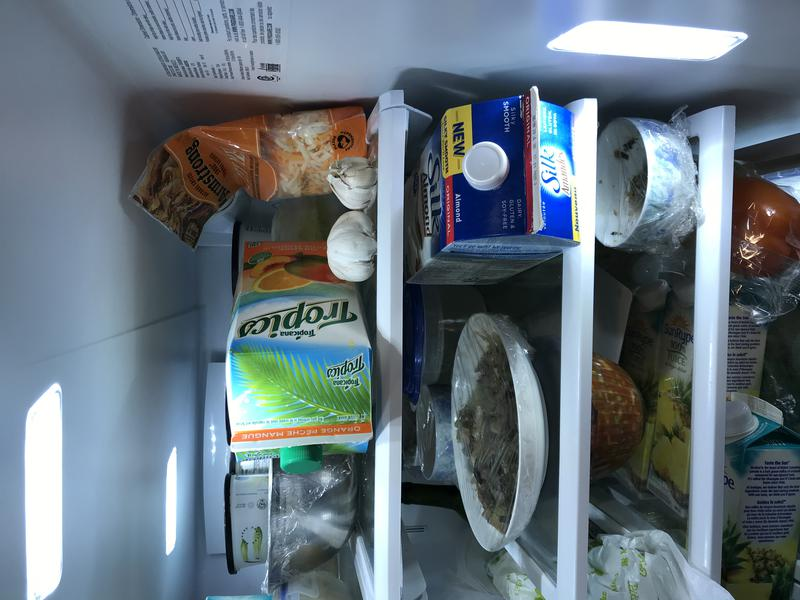garlic: (314, 206, 382, 282), (323, 152, 380, 212)
